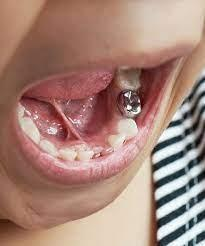crown: (107, 87, 153, 121)
